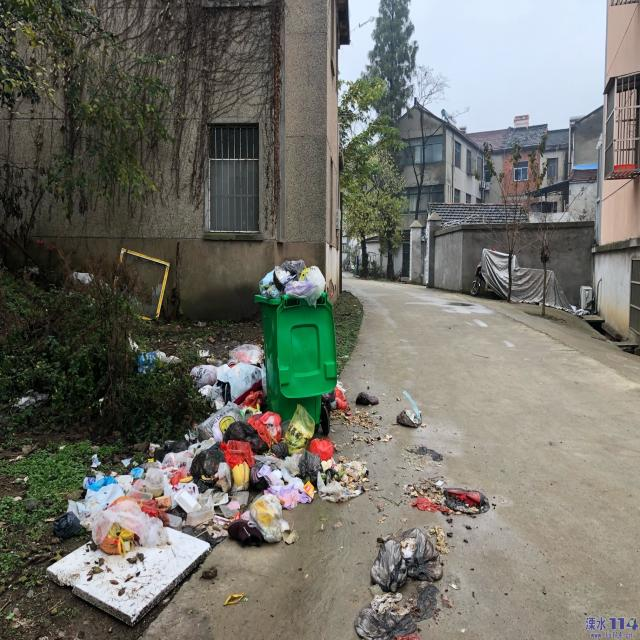garbage: (44, 340, 489, 639)
overflow: (254, 258, 336, 426)
